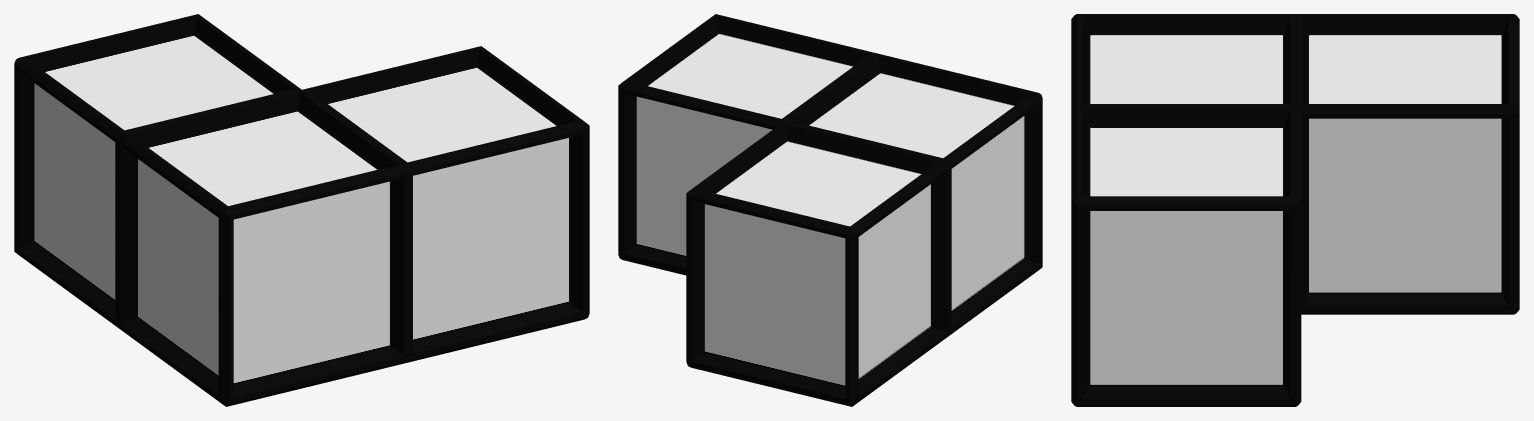
File: Bullet.fbx
3 renders of one model, left to right at view 1: azimuth 30°, elevation 25°; view 2: azimuth 150°, elevation 25°; view 3: azimuth 270°, elevation 25°, orthographic. The views are drawn at different scales.
Visible parts, largest first — view 1: Spiral 1; view 2: Spiral 1; view 3: Spiral 1.
Boxes of the visible parts, x1,y1,x2,y2 form: Spiral 1: (14, 14, 589, 406); Spiral 1: (618, 14, 1042, 406); Spiral 1: (1071, 14, 1519, 406).
Size of the model in its own units: 390 by 200 by 390.
